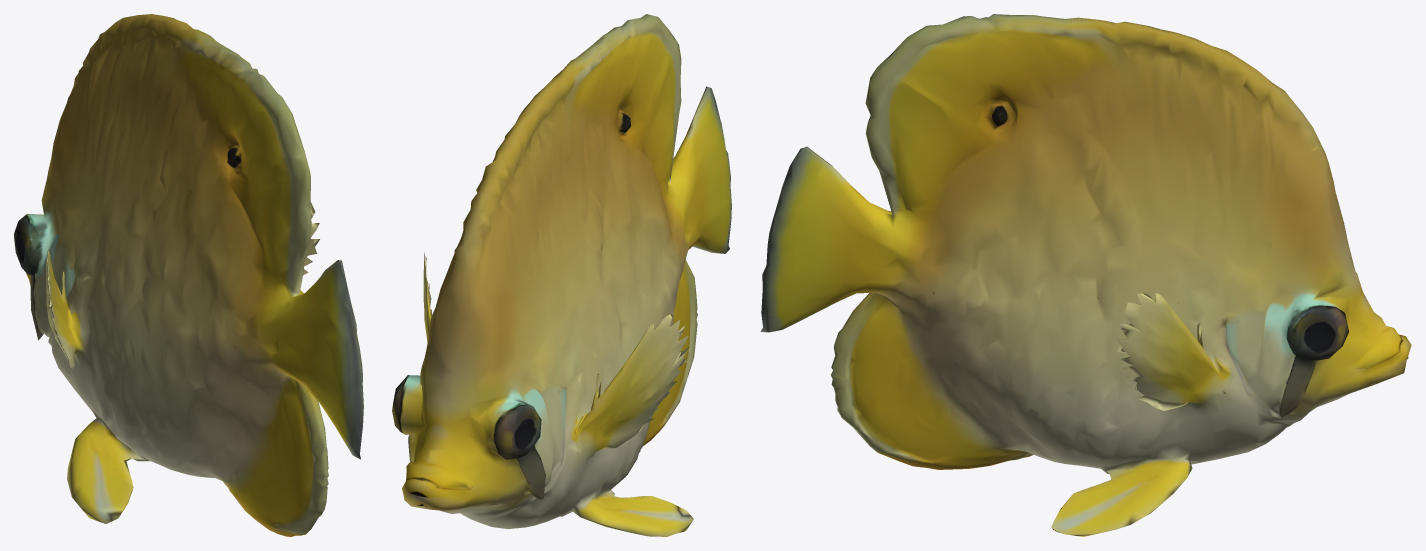
The model's file is tropical_fish.glb.
3 views of the same model, side by side, from view 1: azimuth 30°, elevation 25°; view 2: azimuth 150°, elevation 25°; view 3: azimuth 270°, elevation 25° (orthographic). The views are drawn at different scales.
Visible parts, largest first — view 1: tripo_node_07df992f-7e46-480e-a46c-b054f5901300; view 2: tripo_node_07df992f-7e46-480e-a46c-b054f5901300; view 3: tripo_node_07df992f-7e46-480e-a46c-b054f5901300.
Boxes of the visible parts, x1,y1,x2,y2 form: tripo_node_07df992f-7e46-480e-a46c-b054f5901300: (14,14,363,536); tripo_node_07df992f-7e46-480e-a46c-b054f5901300: (392,14,731,536); tripo_node_07df992f-7e46-480e-a46c-b054f5901300: (760,14,1411,536).
Size of the model in its own units: 0.4869 by 0.7896 by 1.
Materials: 1 (1 with a texture image).
